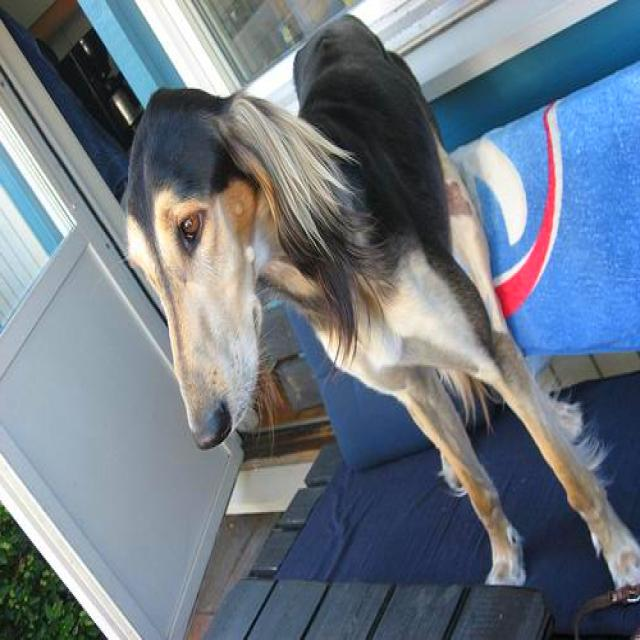saluki: (124, 13, 640, 600)
